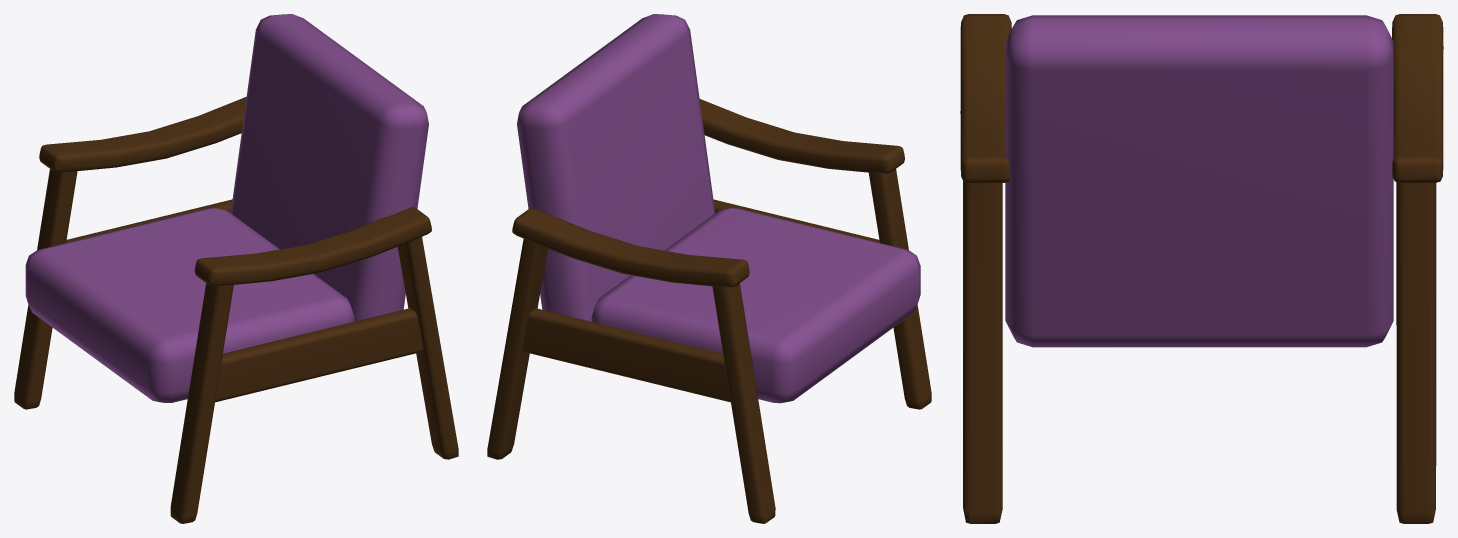
The model's file is armchair_08_purple.fbx.
3 renders of one model, left to right at view 1: azimuth 30°, elevation 25°; view 2: azimuth 150°, elevation 25°; view 3: azimuth 270°, elevation 25°, orthographic. The views are drawn at different scales.
Parts seen in each view (by area): view 1: armchair_08_purple; view 2: armchair_08_purple; view 3: armchair_08_purple.
Part boxes in pixels (bbox=[...]): armchair_08_purple: bbox=[14, 14, 458, 523]; armchair_08_purple: bbox=[487, 14, 931, 523]; armchair_08_purple: bbox=[960, 14, 1443, 523].
Bounding box in the file's own units: 94.97 × 109 × 99.41.
2 materials, 2 textured.
